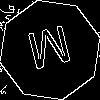M: (25, 25, 76, 79)
